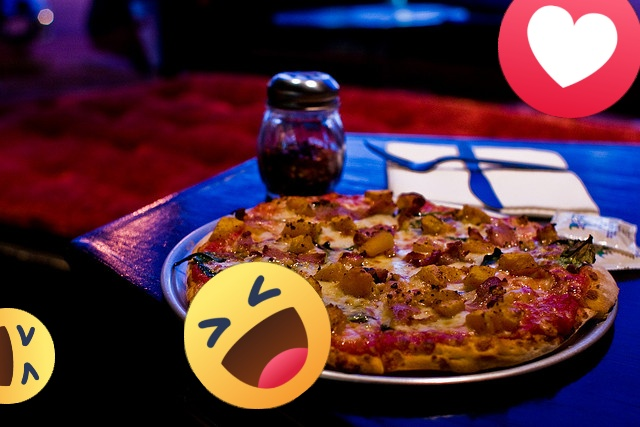haha: (184, 262, 331, 409), (0, 308, 55, 404)
love: (498, 0, 640, 118)
